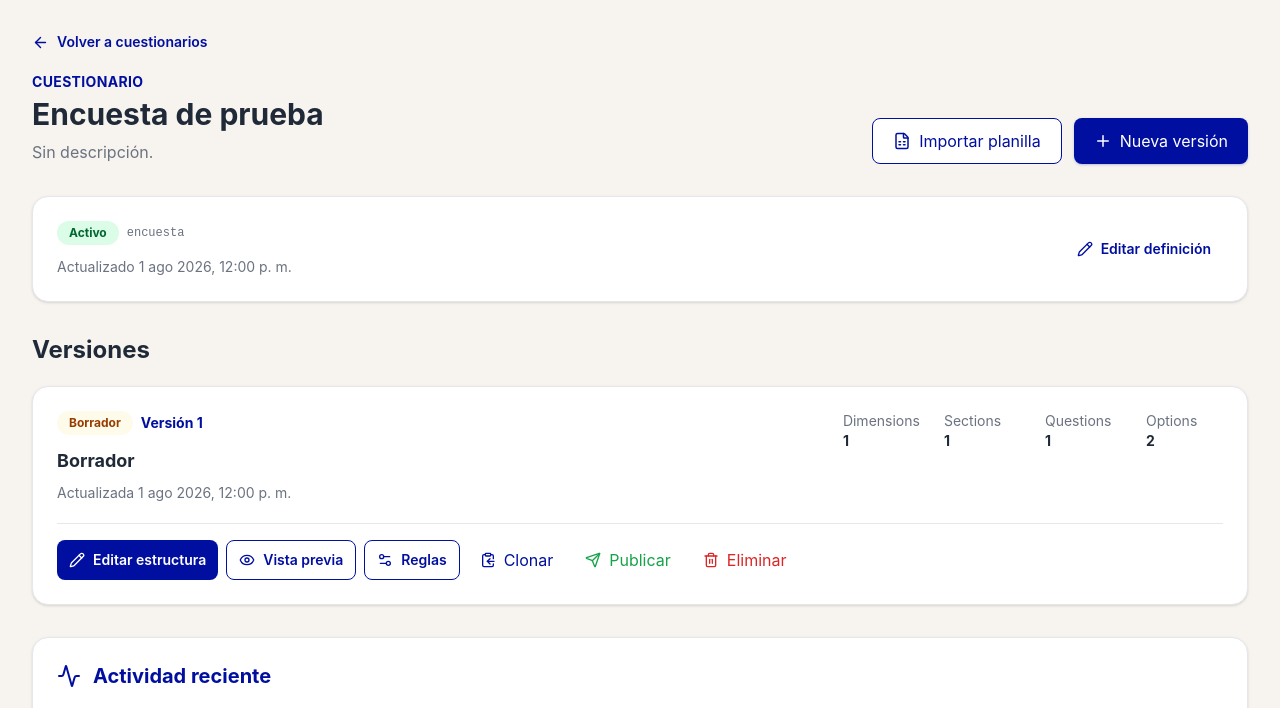
it: SurveyDetailPage publication validation › permite publicar una versión genérica con una advertencia de elegibilidad
Click the button "Publicar" at coordinates (628, 560), box [573,540,683,580]
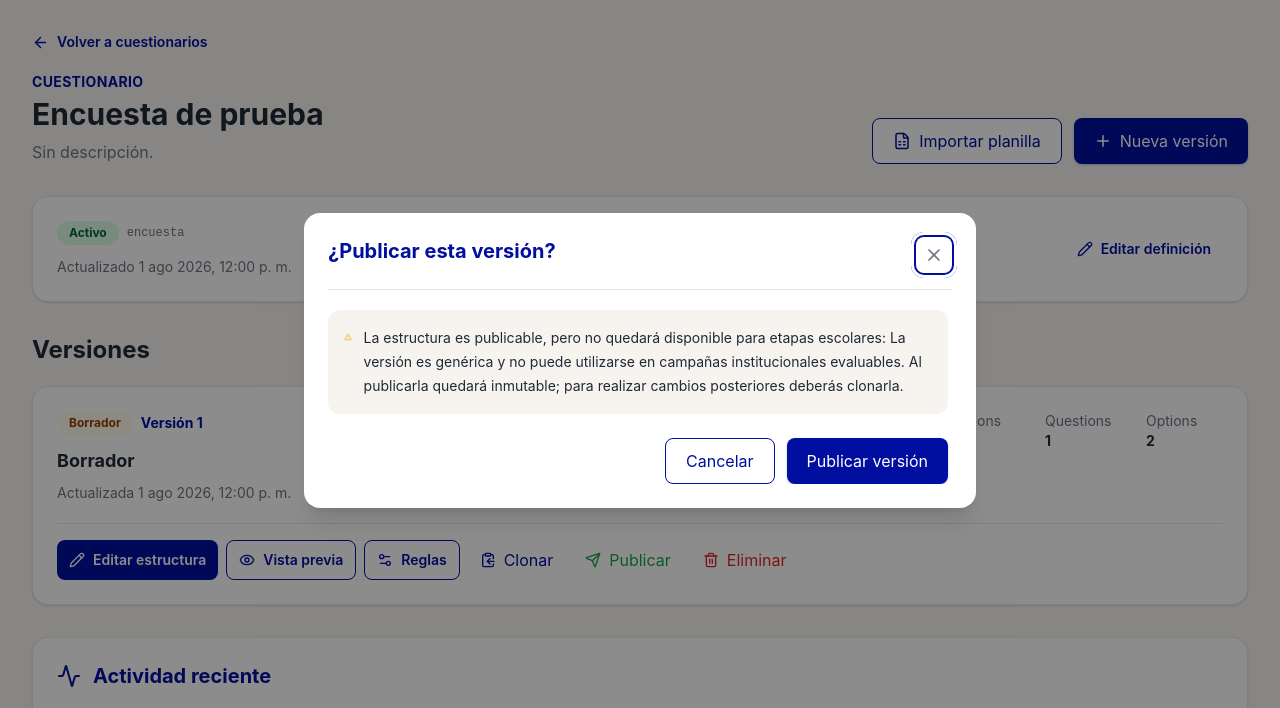
Now the dialog "¿Publicar esta versión?" shows "La estructura es publicable, pero no quedará disponible para etapas escolares", box [364,328,922,394]
Now the dialog "¿Publicar esta versión?" shows "La versión es genérica y no puede utilizarse en campañas institucionales evaluables.", box [364,328,922,394]
Now the button "Publicar versión" is enabled, box [787,438,948,484]
